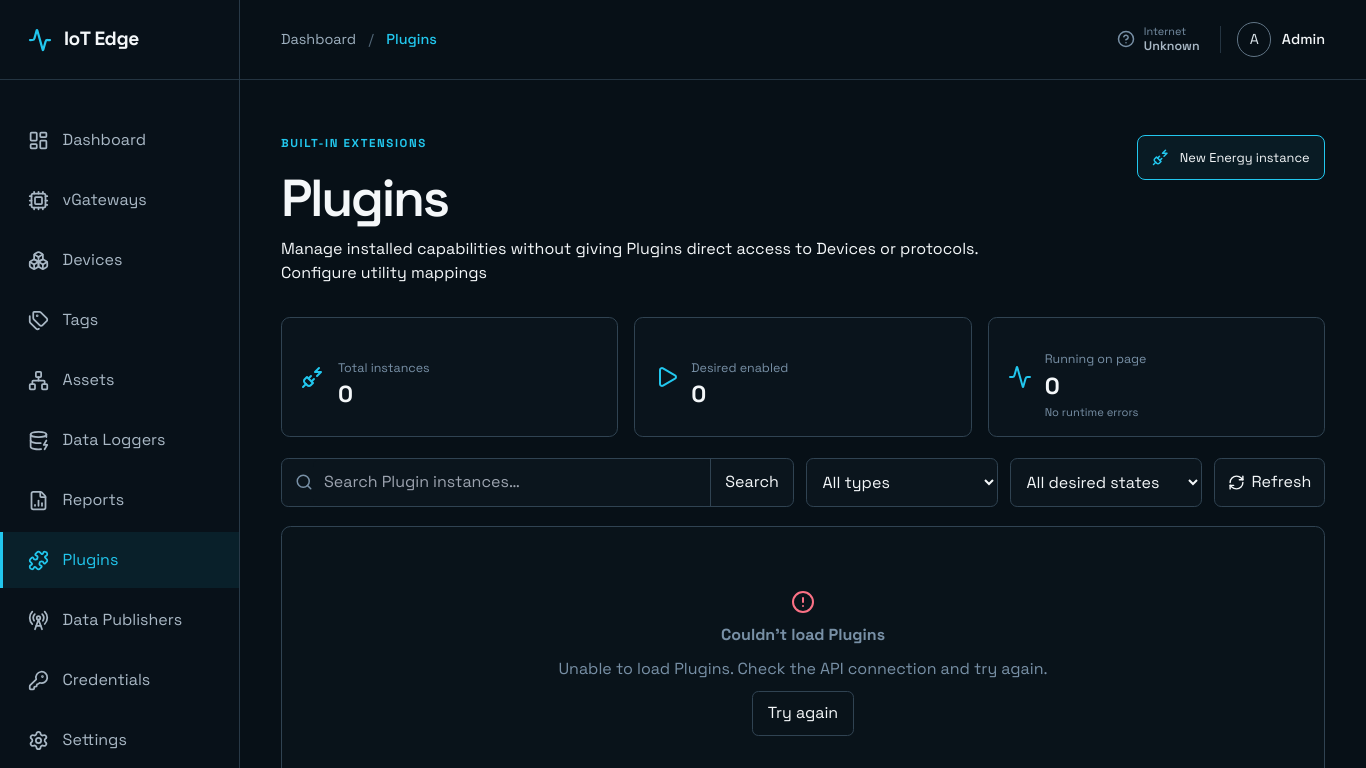
Scenario: PluginListPage › shows API errors, retries, and renders the empty state
Expected: the message that starts with "Couldn’t load Plugins" shows "Unable to load Plugins", [558,658,1048,679]
Click the button "Try again". click: (803, 713)
box: [752,691,854,736]
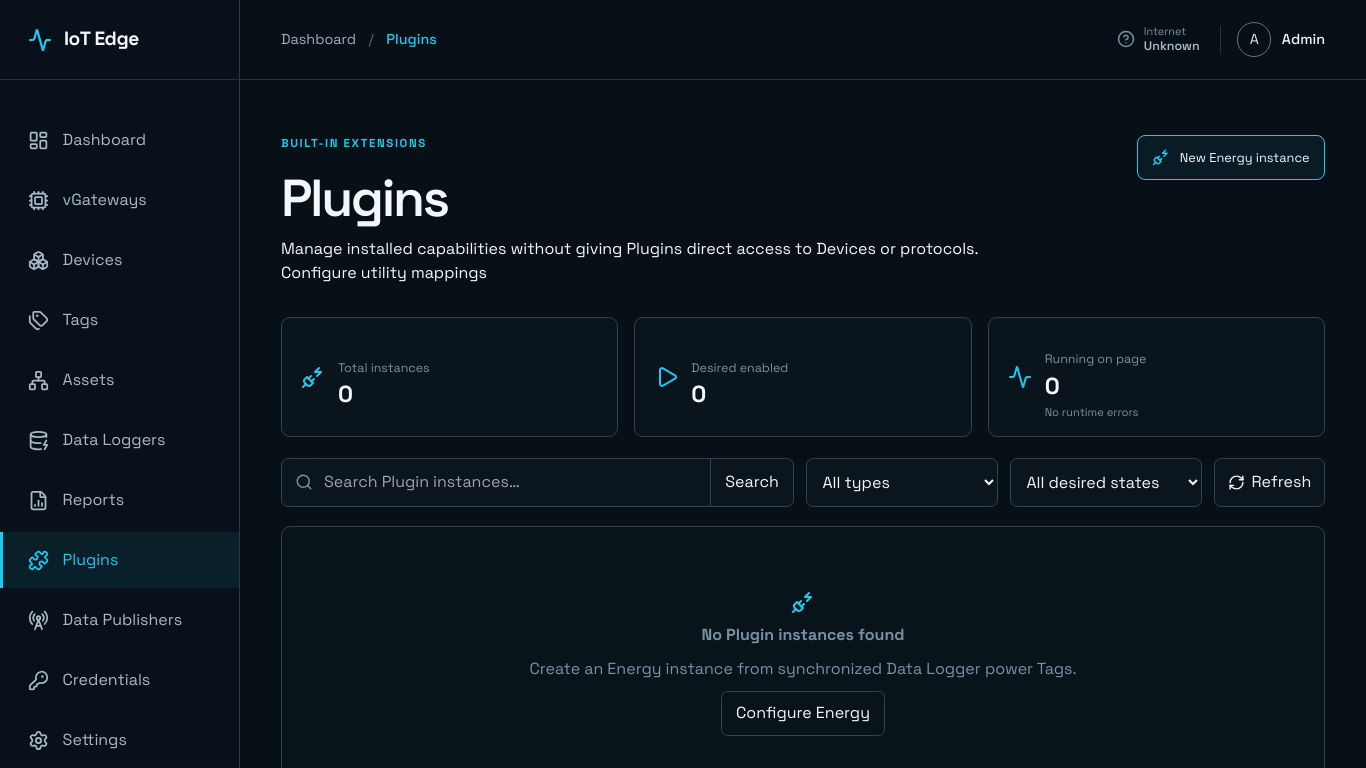
Expected: the text "No Plugin instances found" is shown, [702,624,904,648]
